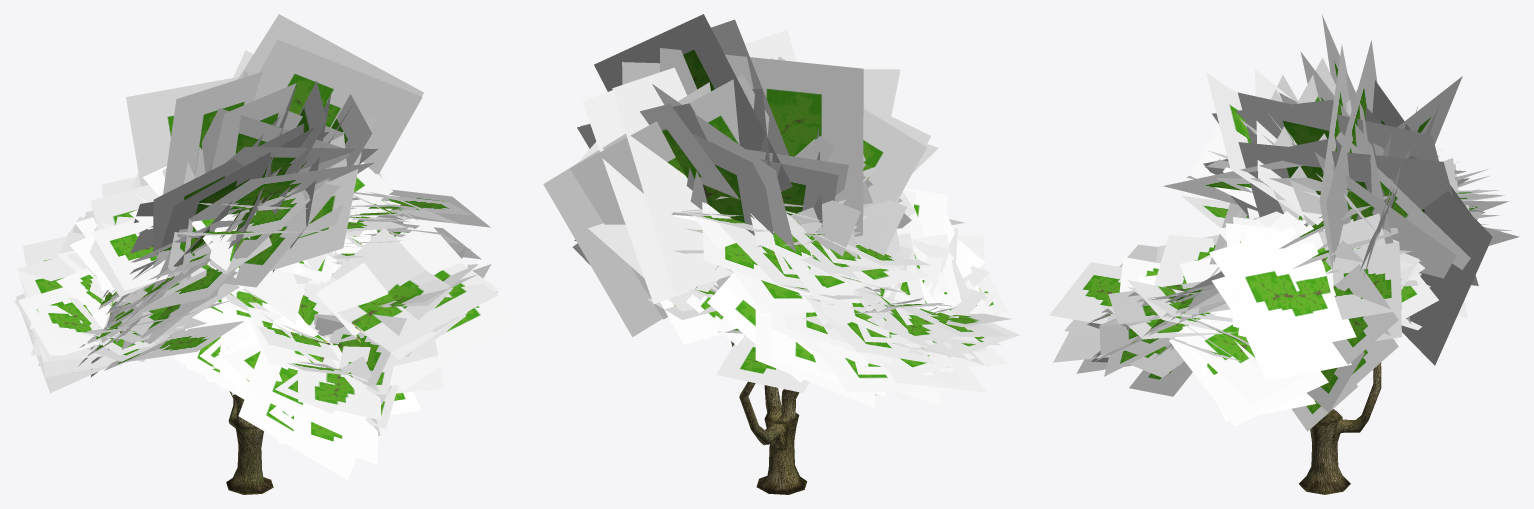
File: Piñon_oreja_integracion.fbx
The picture shows the model from 3 angles, left to right: view 1: azimuth 30°, elevation 25°; view 2: azimuth 150°, elevation 25°; view 3: azimuth 270°, elevation 25°; orthographic projection. The views are drawn at different scales.
Visible parts, largest first — view 1: piñonDeoreja_LOD0; view 2: piñonDeoreja_LOD0; view 3: piñonDeoreja_LOD0.
Part boxes in pixels (<box>): piñonDeoreja_LOD0: <box>14,14,514,494</box>; piñonDeoreja_LOD0: <box>543,14,1020,494</box>; piñonDeoreja_LOD0: <box>1049,15,1519,494</box>.
Size of what is drawn, in the model's own units: 16.97 by 16.84 by 15.27.
